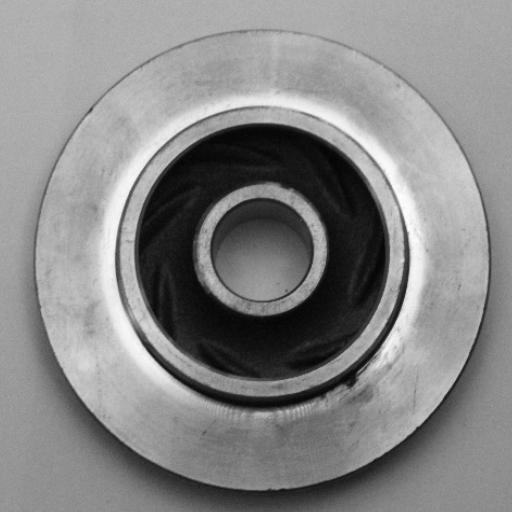crack: (329, 363, 375, 396)
unpolished_casting: (33, 24, 492, 497)
